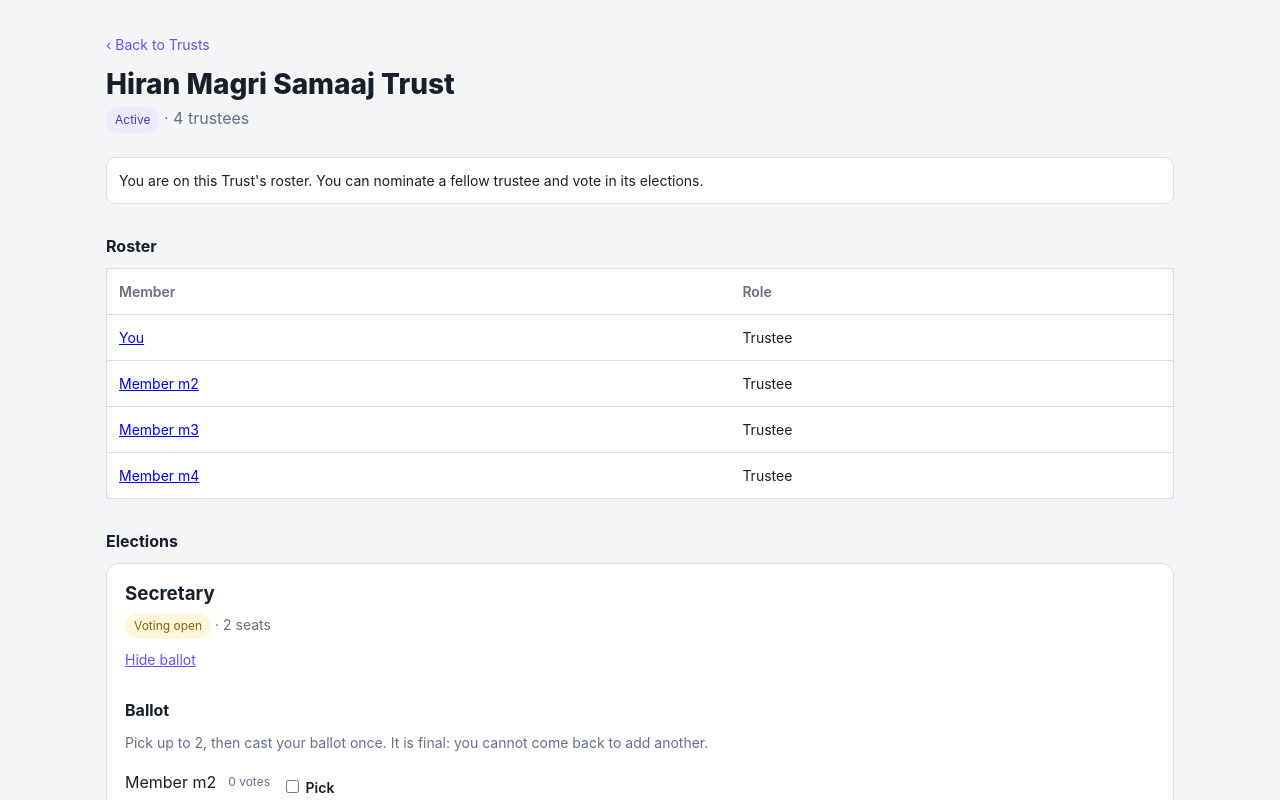
Test: TrustDetailComponent › casts a multi-seat ballot once, capped at the seats
The image size is (1280, 800).
Step 1. Click the checkbox labelled "Pick" → (292, 787), box top-left (286, 780), bottom-right (299, 793)
(page scrolled)
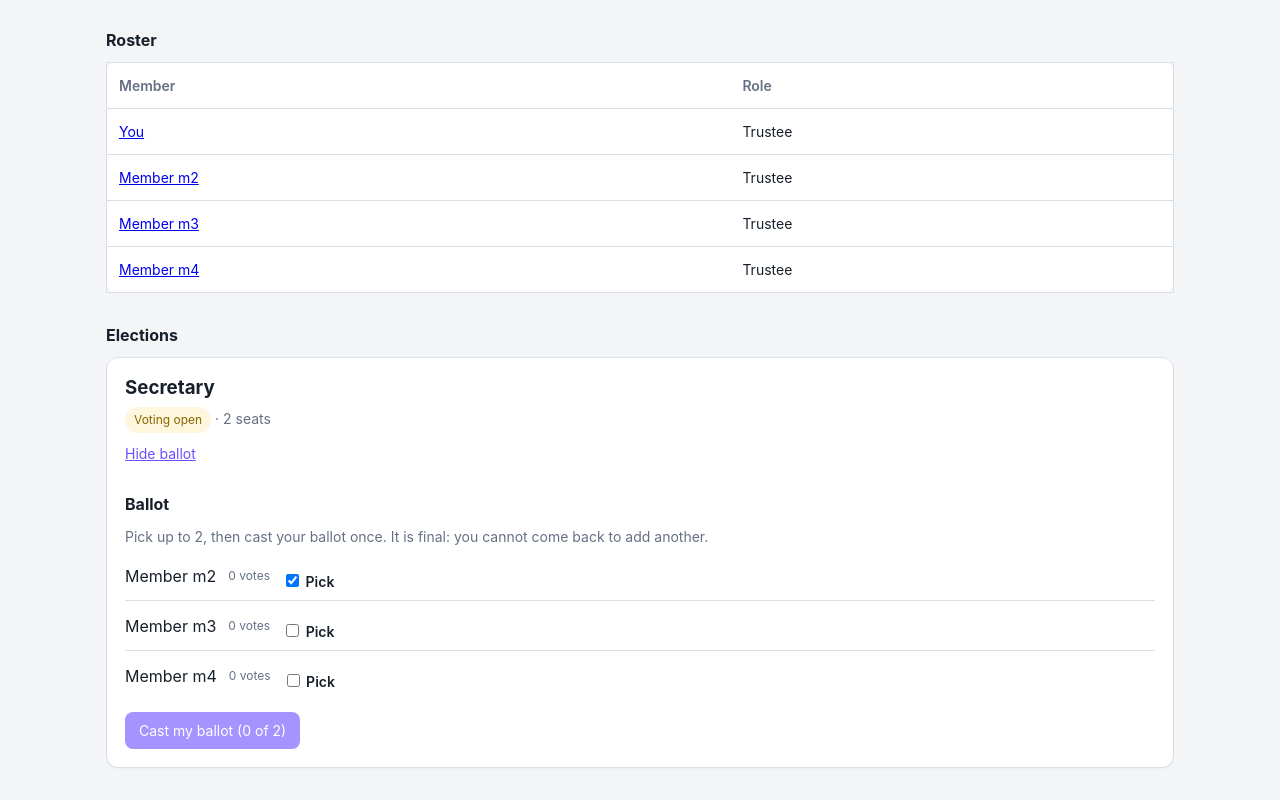
Step 2. Click the 2nd checkbox labelled "Pick" → (293, 631), box top-left (286, 624), bottom-right (299, 637)
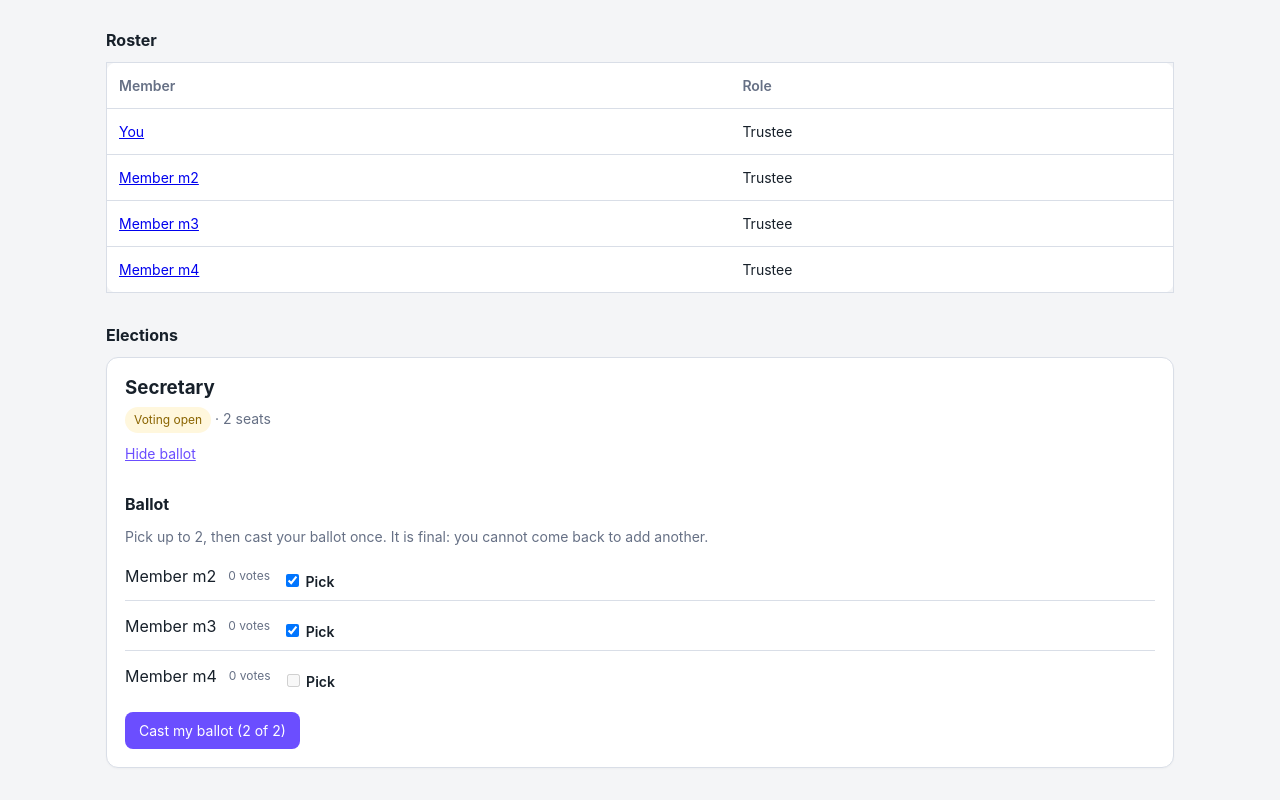
Result: the 3rd checkbox labelled "Pick" is disabled at top-left (287, 674), bottom-right (300, 687)
Result: the text "Cast my ballot (2 of 2)" is shown at top-left (125, 712), bottom-right (300, 749)
